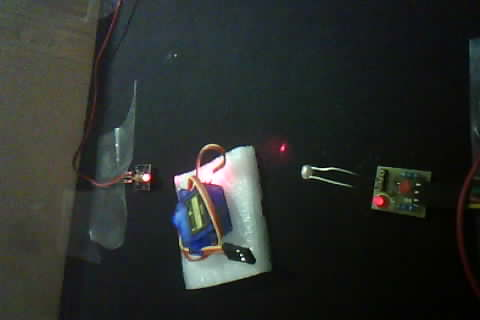motor: (160, 134, 266, 278)
